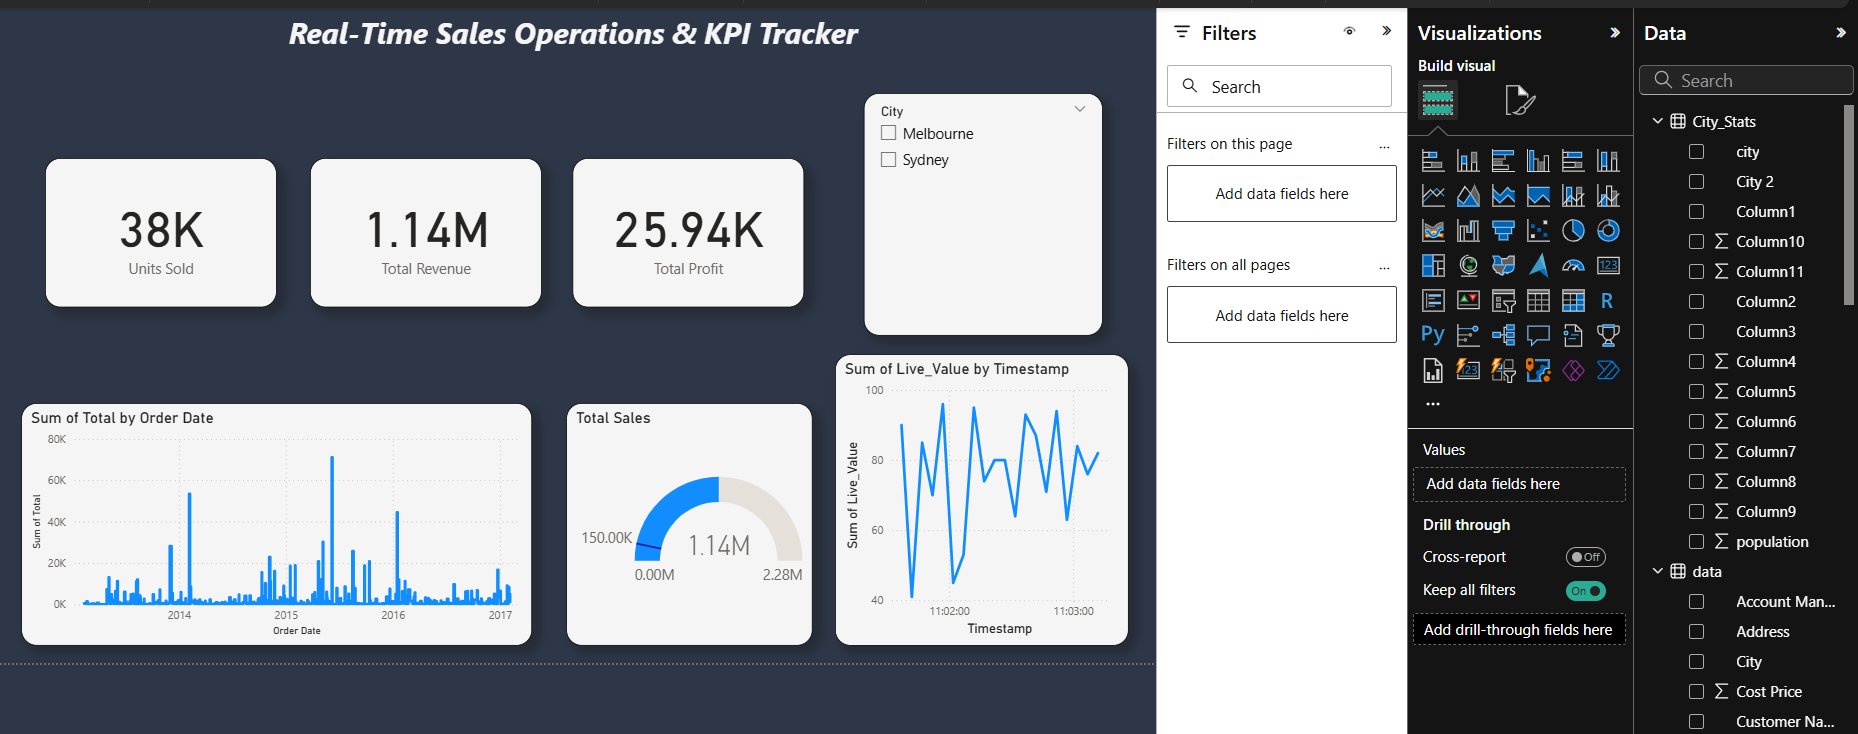

Layout of this report page (visuals, bound fields, positions):
{"tool":"powerbi","page":{"name":"Page 3","canvas":[1280,720],"ordinal":2},"visuals":[{"type":"textbox","box":[0,0,1280.3,120.8],"z":0},{"type":"card","fields":{"Values":["data.Total Sales"]},"box":[351.5,165.2,254.5,163.6],"z":1000},{"type":"card","fields":{"Values":["data.Total Profit"]},"box":[639.4,165.2,254.5,163.6],"z":2000},{"type":"card","fields":{"Values":["data.Total Quantity"]},"box":[60.6,165.2,254.5,163.6],"z":3000},{"type":"areaChart","fields":{"Category":["data.Order Date.Variation.Date Hierarchy.Year"],"Y":["Sum(data.Total)"]},"box":[34.8,433.3,560.6,266.7],"z":4000},{"type":"gauge","fields":{"Y":["data.Total Sales"]},"box":[632.6,433.6,270.3,266.2],"z":5000},{"type":"slicer","fields":{"Values":["data.City"]},"box":[959.2,93.3,262.1,266.2],"z":7000},{"type":"lineChart","fields":{"Category":["df.Timestamp.Variation.Date Hierarchy.Year"],"Y":["Sum(df.Live_Value)"]},"box":[927.6,380.1,322.5,319.7],"z":7001}]}

Visuals, with their boxes on the page's 1280x720 design canvas (x1, y1, x2, y2). These are canvas units, not pixel positions in the 1858x734 screenshot, which may show the page scaled, cropped or inside an application window:
textbox: <box>0,0,1280,121</box>
card - data.Total Sales: <box>352,165,606,329</box>
card - data.Total Profit: <box>639,165,894,329</box>
card - data.Total Quantity: <box>61,165,315,329</box>
areaChart - data.Order Date.Variation.Date Hierarchy.Year x Sum(data.Total): <box>35,433,595,700</box>
gauge - data.Total Sales: <box>633,434,903,700</box>
slicer - data.City: <box>959,93,1221,360</box>
lineChart - df.Timestamp.Variation.Date Hierarchy.Year x Sum(df.Live_Value): <box>928,380,1250,700</box>
